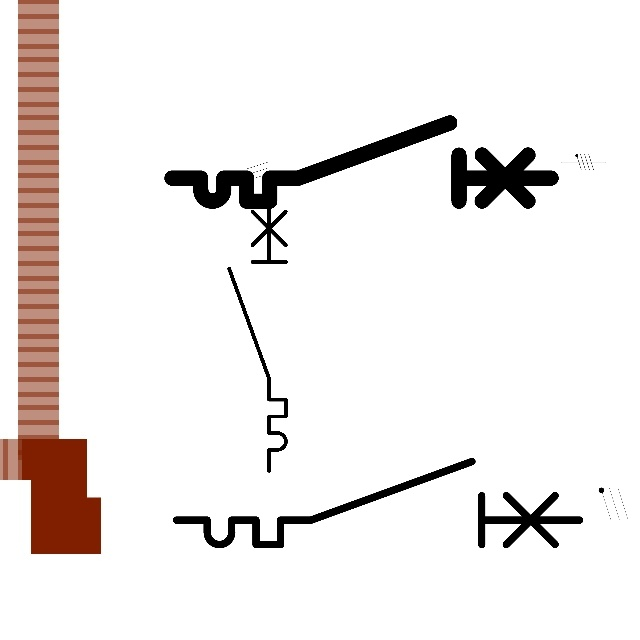interruptor_termomagnetico: (166, 451, 590, 555), (162, 113, 561, 211), (222, 187, 293, 477)
